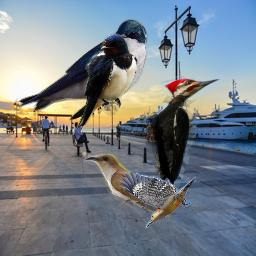Cuckoo: (83, 154, 170, 218)
Swallow: (17, 19, 148, 111), (69, 33, 138, 130)
Woodpecker: (146, 76, 224, 199), (118, 171, 196, 229)
